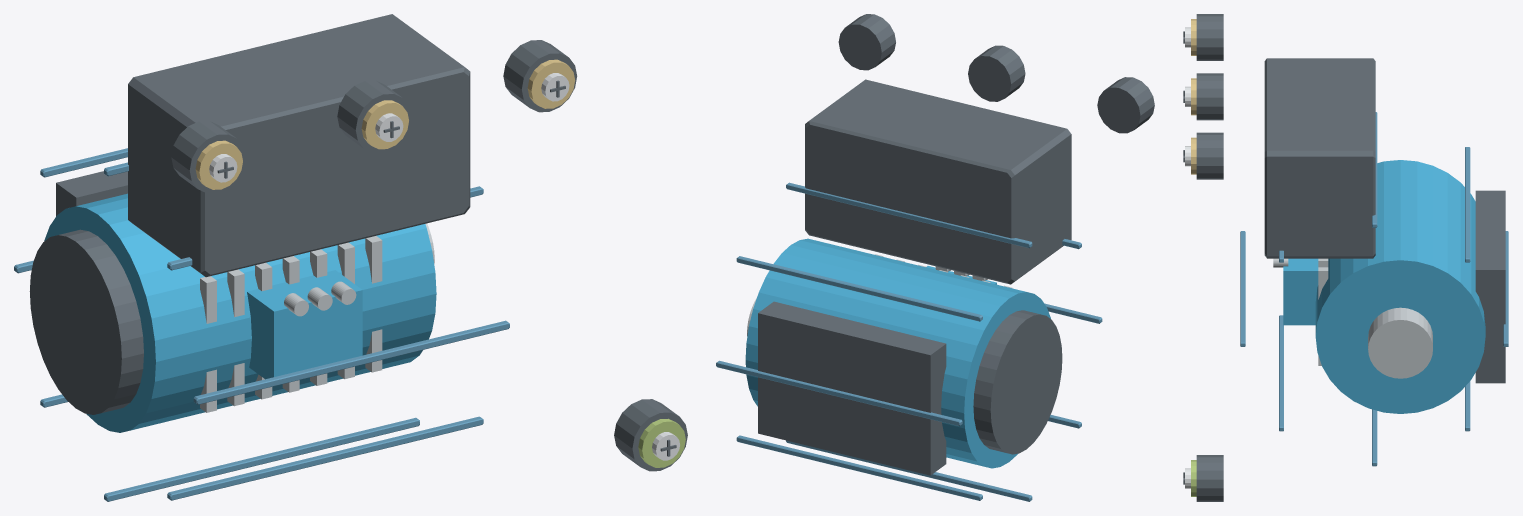
File: motor3Phase.glb
The picture shows the model from 3 angles, left to right: view 1: azimuth 30°, elevation 25°; view 2: azimuth 150°, elevation 25°; view 3: azimuth 270°, elevation 25°; orthographic projection. The views are drawn at different scales.
Visible parts, largest first — view 1: motor3Phase-preview; view 2: motor3Phase-preview; view 3: motor3Phase-preview.
Part boxes in pixels (x1,y1,x2,y2): motor3Phase-preview: (14,14,687,501); motor3Phase-preview: (716,14,1154,501); motor3Phase-preview: (1183,14,1508,501).
Size of the model in its own units: 2.81 by 2.47 by 2.17.
